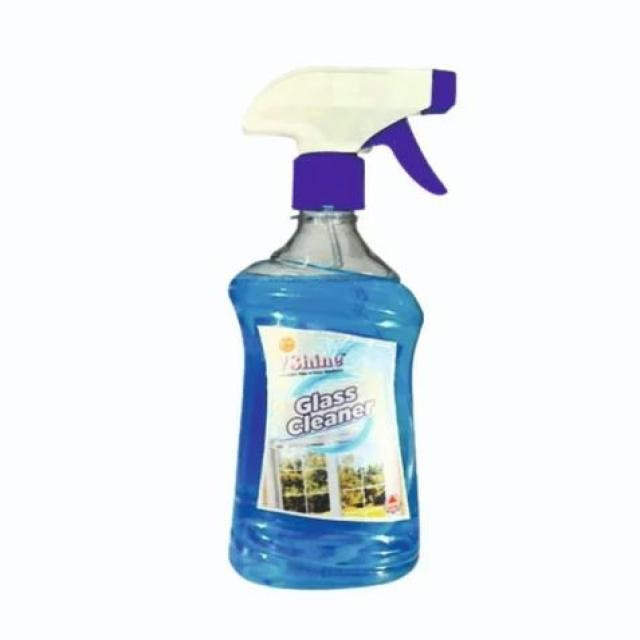winwinshield_washer: (219, 62, 459, 592)
